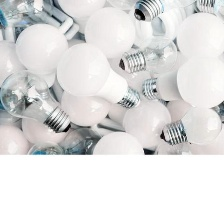light_bulb: (51, 40, 144, 112), (139, 48, 223, 114), (11, 19, 73, 102), (0, 66, 74, 135), (78, 3, 142, 66), (107, 96, 170, 153), (115, 33, 180, 77), (155, 105, 223, 147), (57, 124, 106, 164), (129, 0, 207, 25), (0, 0, 58, 30)
